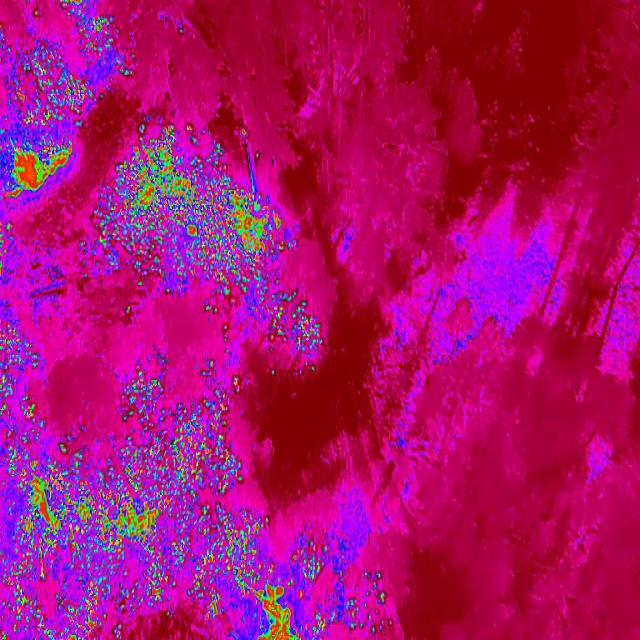fire: (0, 434, 267, 640), (92, 126, 288, 316), (290, 538, 392, 638), (150, 402, 248, 499), (0, 33, 89, 129), (264, 287, 326, 373), (0, 137, 74, 201), (0, 374, 44, 468), (256, 564, 300, 640), (60, 0, 116, 54), (116, 365, 168, 423), (196, 359, 226, 411), (0, 315, 25, 377), (0, 220, 16, 286), (74, 239, 92, 282), (216, 321, 234, 348), (227, 369, 244, 396), (30, 4, 44, 22)
